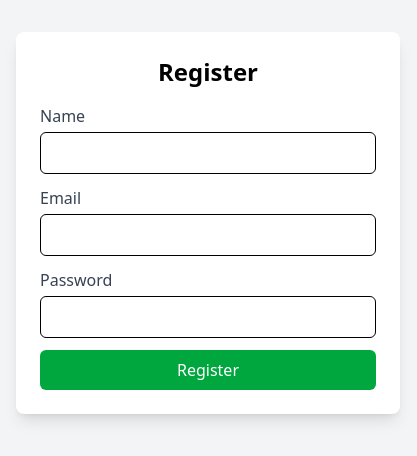
Test: shows validation error when fields are empty
Step 1. Click the button "Register" → (208, 370), box [40,350,376,390]
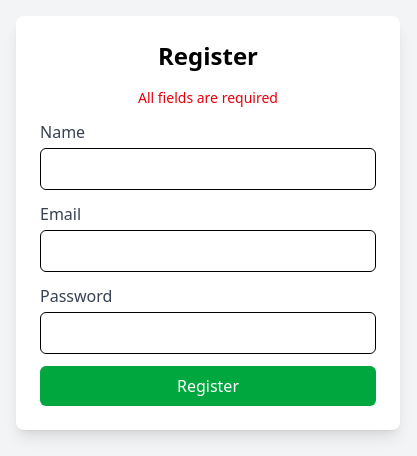
Result: the text "All fields are required" is shown at [138,88,278,107]
